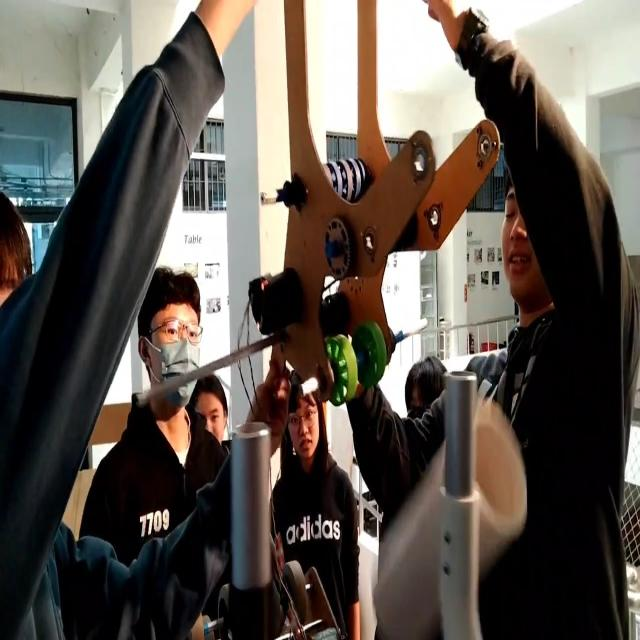CORAL: (374, 398, 528, 638)
